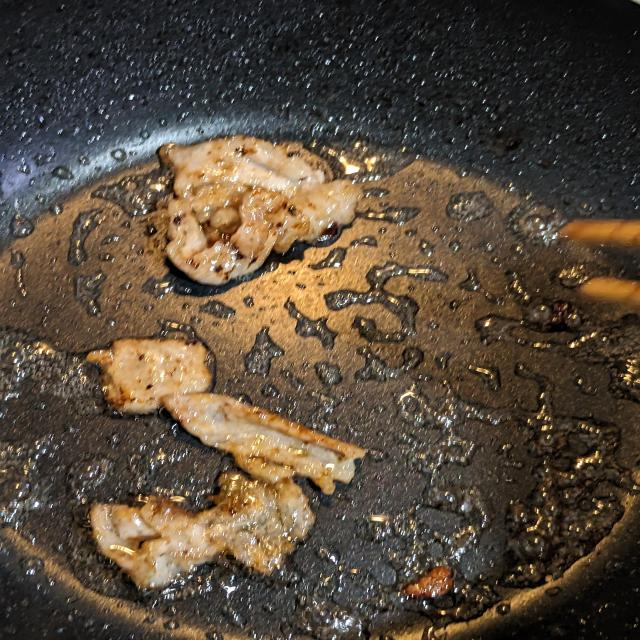OK cooked pork,: (155, 128, 370, 288), (87, 469, 324, 612), (168, 393, 381, 502), (85, 331, 212, 423)
